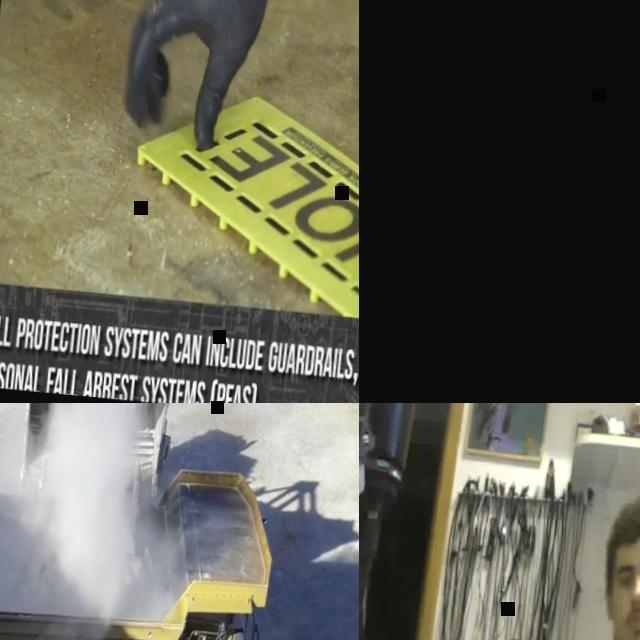machinery: (0, 432, 309, 640), (16, 403, 193, 512)
no_helmet: (611, 496, 640, 553)
no_mask: (613, 605, 640, 640)
person: (103, 0, 359, 316), (548, 489, 640, 640)
